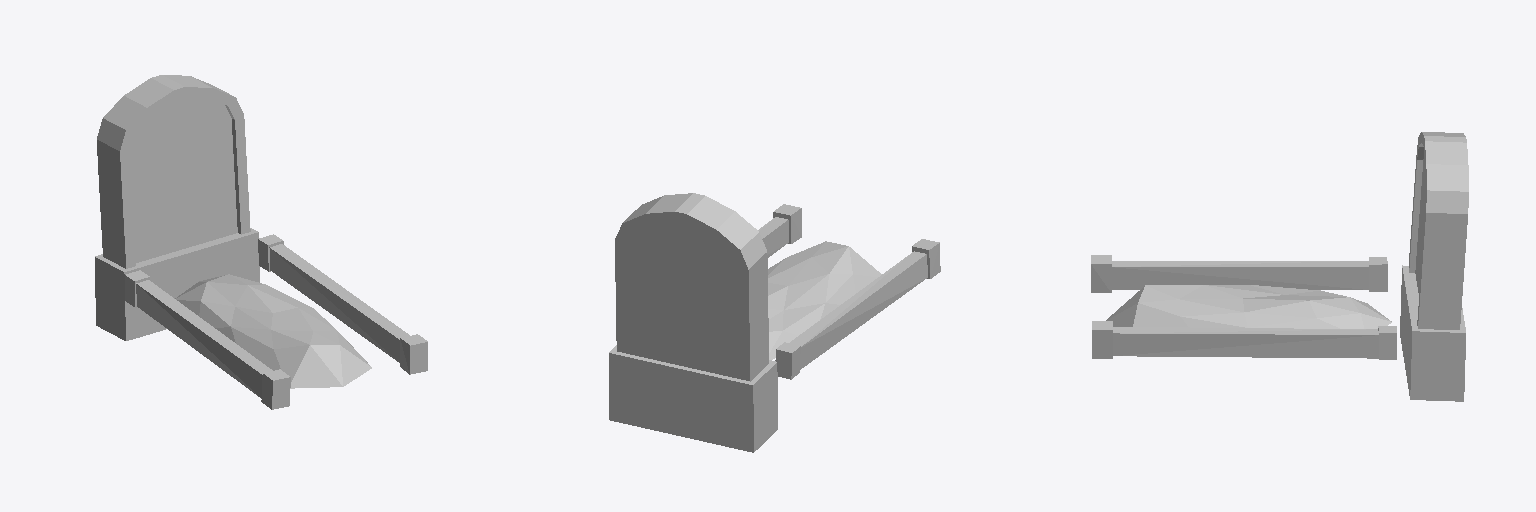
The model's file is Tombstone.obj.
The picture shows the model from 3 angles: view 1: azimuth 30°, elevation 25°; view 2: azimuth 150°, elevation 25°; view 3: azimuth 270°, elevation 25°; orthographic projection.
Visible parts, largest first — view 1: Cube_Cube.001; view 2: Cube_Cube.001; view 3: Cube_Cube.001.
Part boxes in pixels (x1,y1,x2,y2): Cube_Cube.001: (95,75,427,409); Cube_Cube.001: (609,193,940,452); Cube_Cube.001: (1091,132,1468,401).
Size of the model in its own units: 3.3 by 4.65 by 6.9.